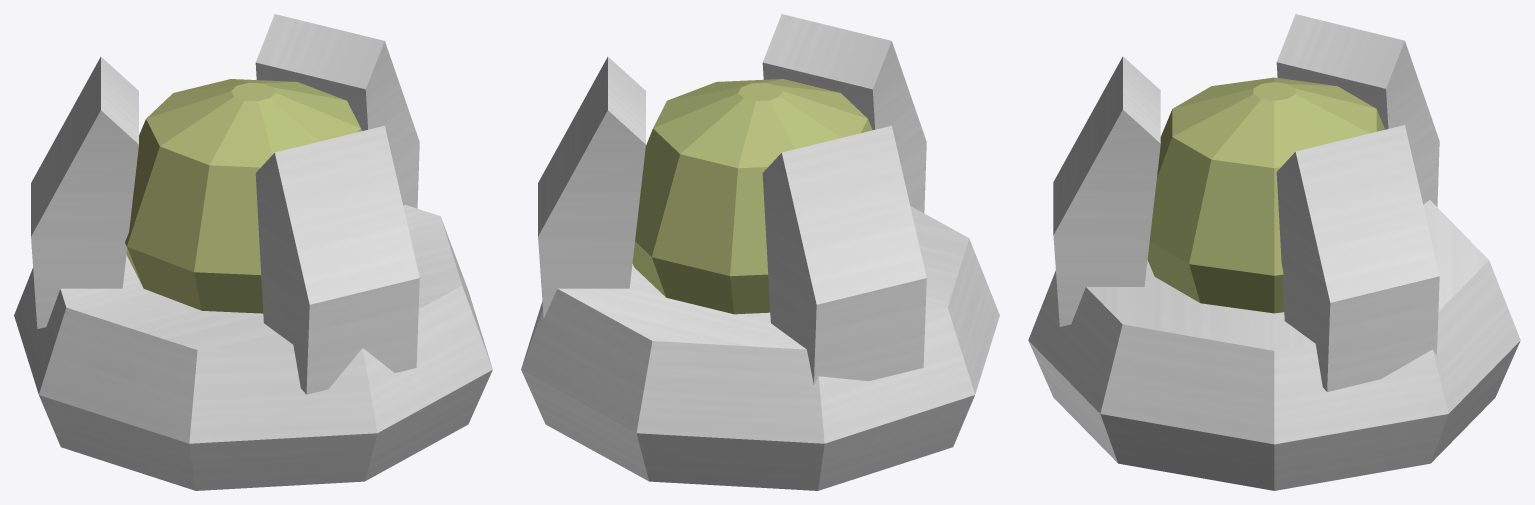
File: power_cell.obj
3 views of the same model, side by side, from view 1: azimuth 30°, elevation 25°; view 2: azimuth 150°, elevation 25°; view 3: azimuth 270°, elevation 25° (orthographic).
Parts seen in each view (by area): view 1: power_cell; view 2: power_cell; view 3: power_cell.
Part boxes in pixels (left/top/right/bottom): power_cell: left=14, top=14, right=492, bottom=490; power_cell: left=521, top=14, right=999, bottom=490; power_cell: left=1028, top=14, right=1520, bottom=490.
Size of the model in its own units: 0.78 by 0.55 by 0.78.
